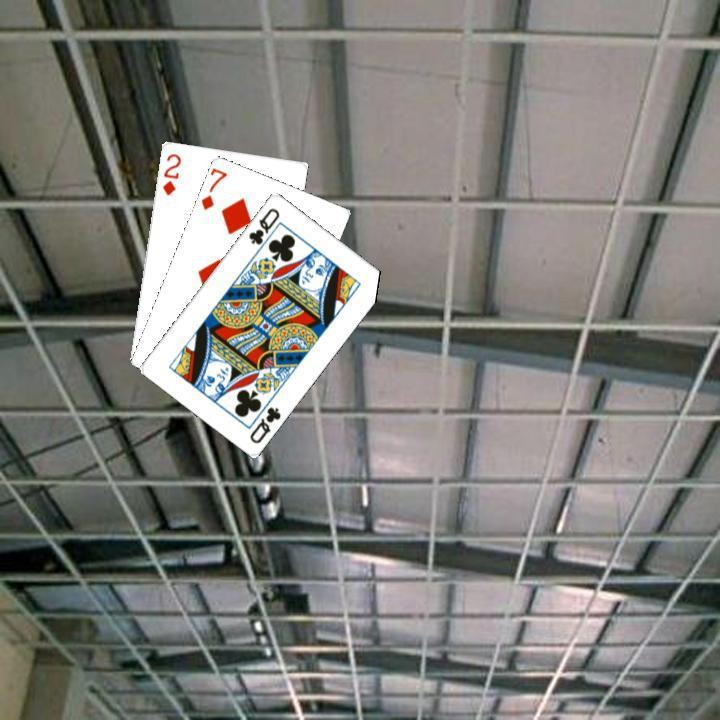2: (158, 149, 182, 197)
7: (196, 164, 229, 212)
Q: (244, 203, 282, 247), (245, 402, 283, 445)
